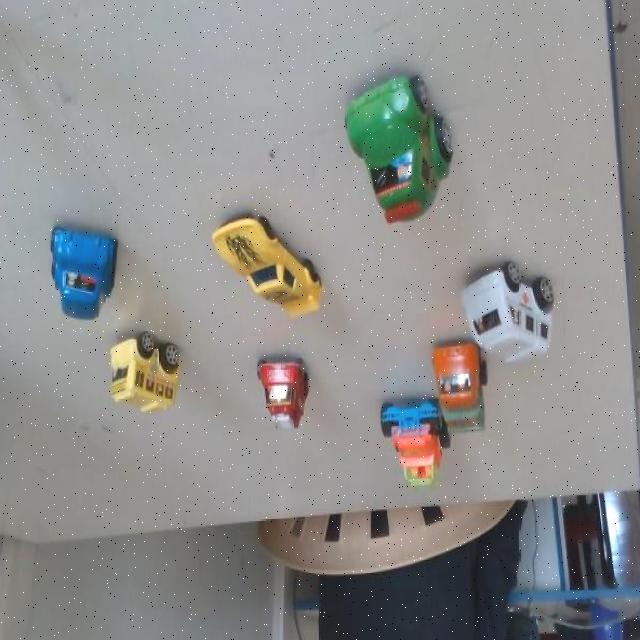car: (340, 76, 462, 222), (214, 213, 325, 315), (461, 254, 556, 373), (368, 398, 446, 497), (45, 224, 119, 320), (112, 326, 190, 415), (430, 334, 492, 442), (256, 346, 320, 436)
